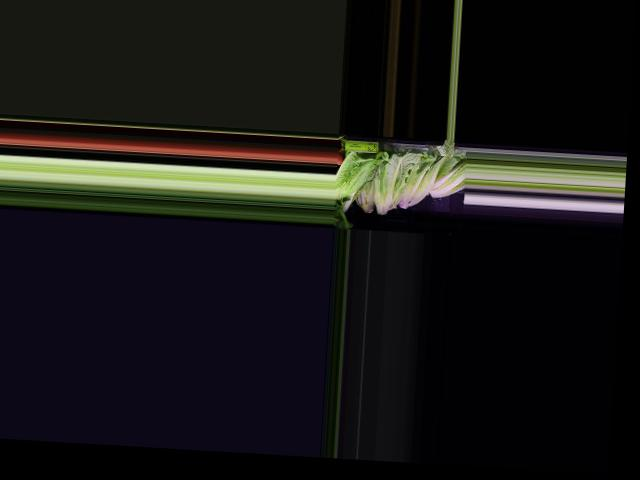lettuce: (426, 157, 467, 201)
